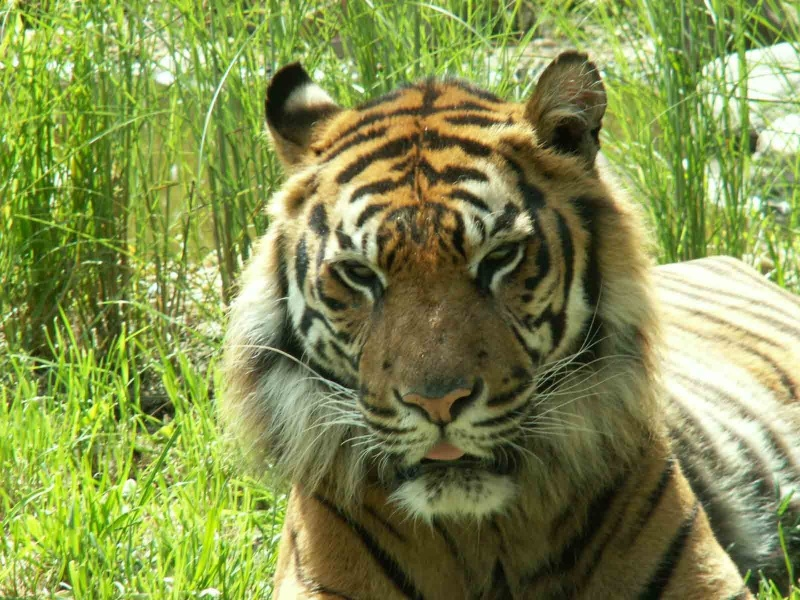tigre: (215, 51, 758, 600)
